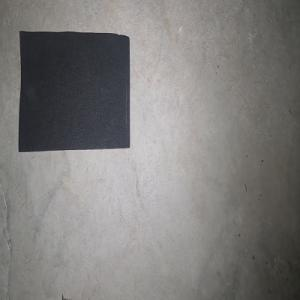PaintChip: (18, 30, 130, 152)
